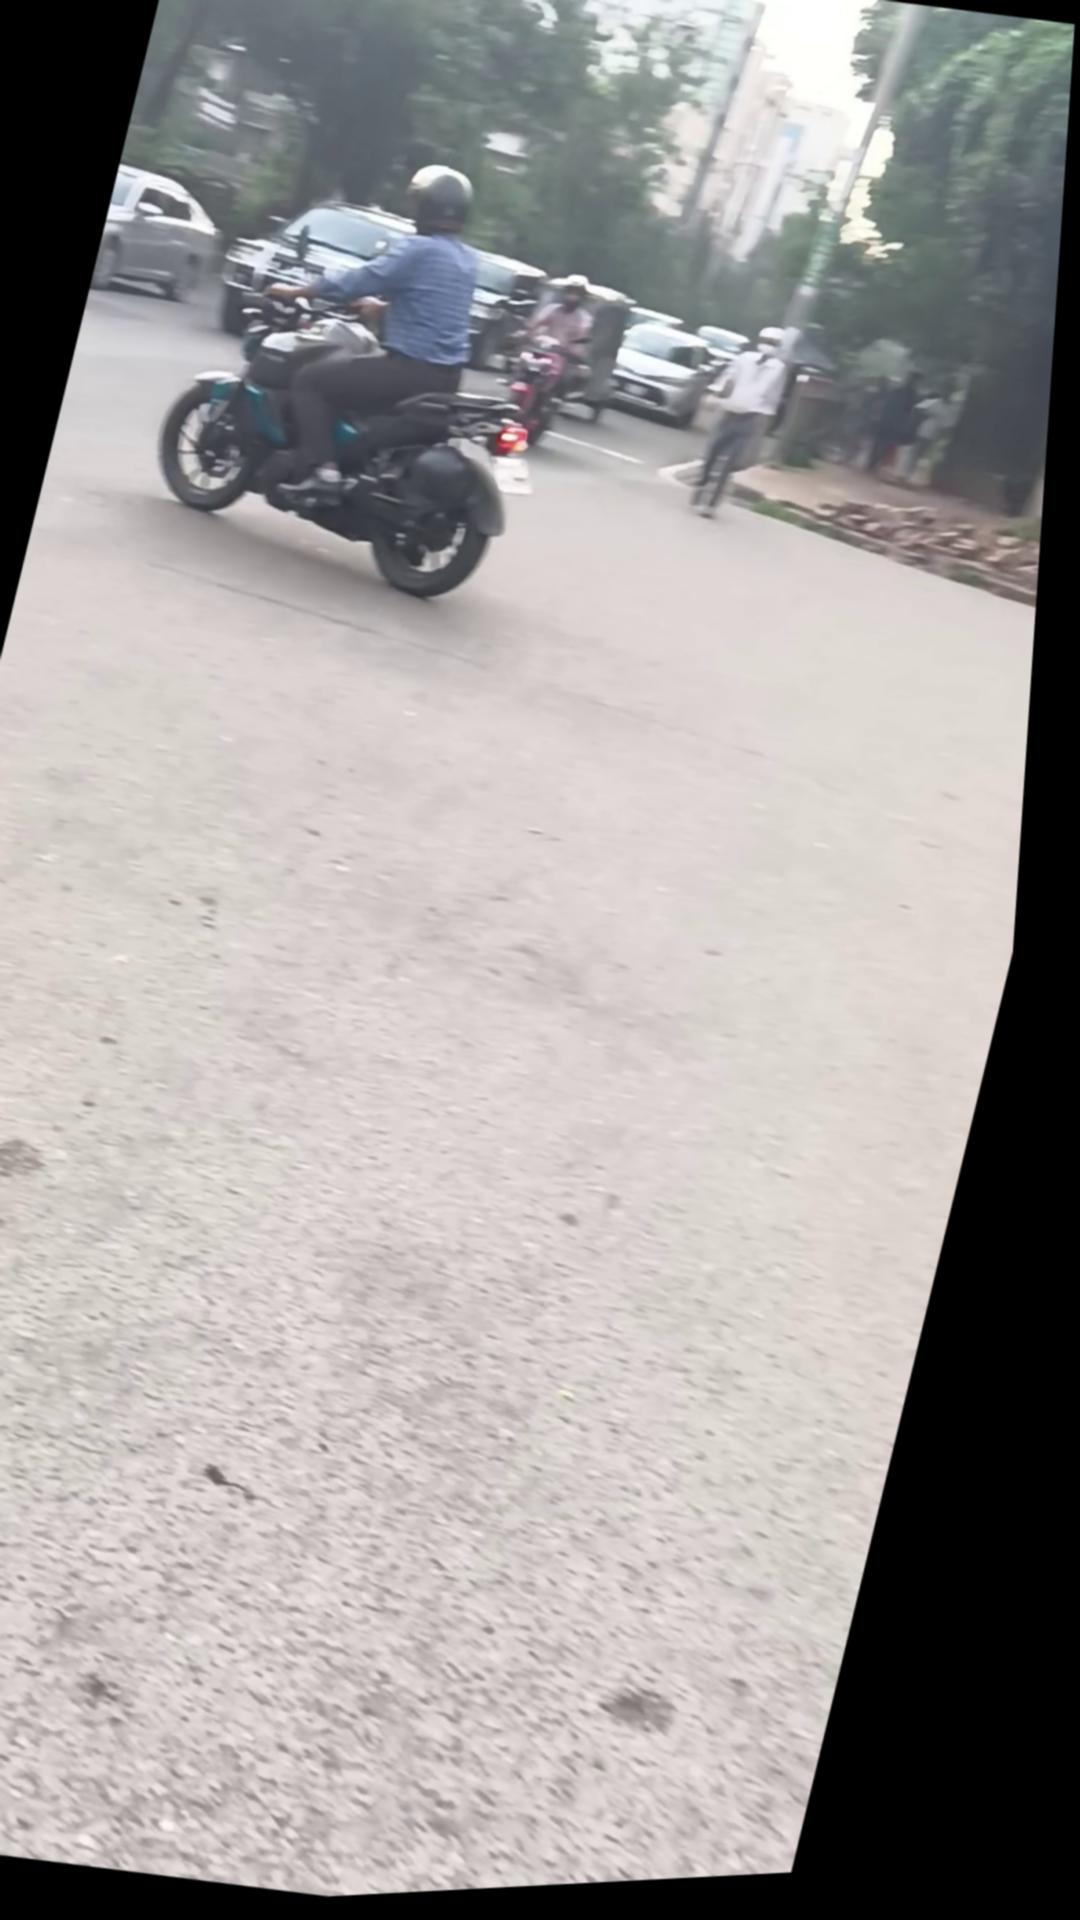Car: (92, 159, 242, 314)
Crosswalk: (638, 439, 1055, 657)
Light-pole: (132, 252, 570, 628), (483, 330, 590, 462)
Muddy road: (224, 141, 519, 526), (685, 323, 807, 536), (503, 273, 611, 459)
